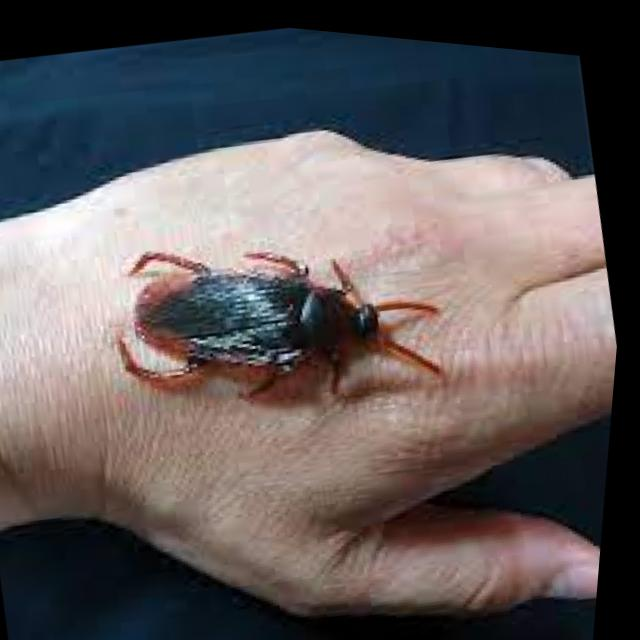Cockroach: (58, 132, 508, 479)
